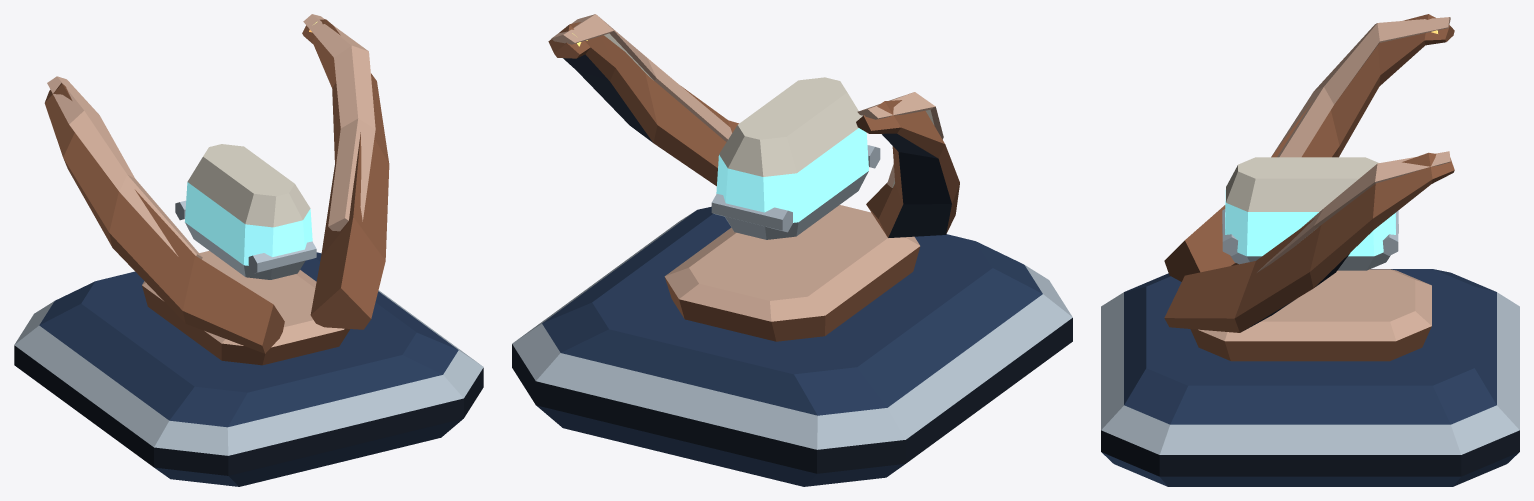
The model's file is overhaul-beam-splitter.glb.
The picture shows the model from 3 angles, left to right: view 1: azimuth 30°, elevation 25°; view 2: azimuth 150°, elevation 25°; view 3: azimuth 270°, elevation 25°; orthographic projection. The views are drawn at different scales.
Parts seen in each view (by area): view 1: overhaul-beam-splitter; view 2: overhaul-beam-splitter; view 3: overhaul-beam-splitter.
Boxes of the visible parts, x1,y1,x2,y2 form: overhaul-beam-splitter: (14, 14, 483, 486); overhaul-beam-splitter: (512, 14, 1072, 486); overhaul-beam-splitter: (1101, 14, 1519, 486).
Bounding box in the file's own units: 0.98 × 0.863 × 1.
